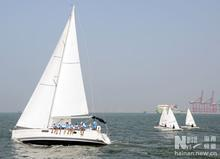fanchuan: (9, 2, 112, 144), (161, 106, 180, 131), (183, 107, 200, 130)
